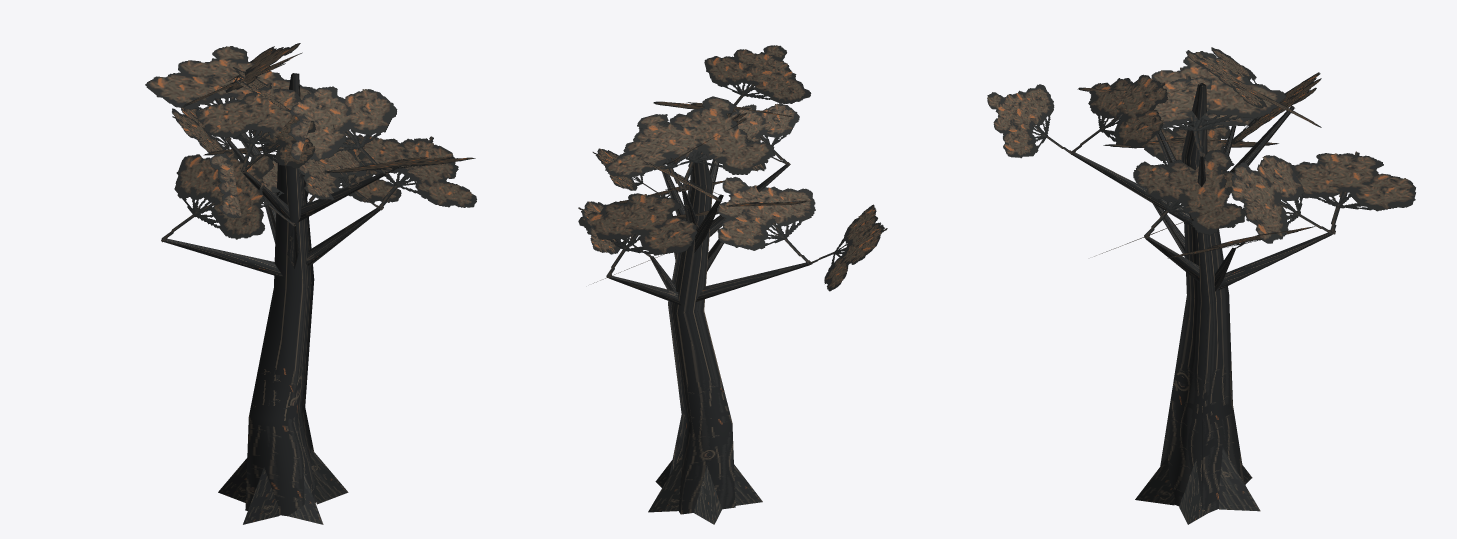
File: volcanic-emberwood-mobile.glb
3 renders of one model, left to right at view 1: azimuth 30°, elevation 25°; view 2: azimuth 150°, elevation 25°; view 3: azimuth 270°, elevation 25°, orthographic. The views are drawn at different scales.
Visible parts, largest first — view 1: Volcanic emberwood mobile v3 runtime; view 2: Volcanic emberwood mobile v3 runtime; view 3: Volcanic emberwood mobile v3 runtime.
Boxes of the visible parts, x1,y1,x2,y2 form: Volcanic emberwood mobile v3 runtime: (145, 43, 476, 524); Volcanic emberwood mobile v3 runtime: (578, 45, 887, 524); Volcanic emberwood mobile v3 runtime: (987, 47, 1415, 524).
Bounding box in the file's own units: 6.91 × 7.32 × 7.14.
Materials: 1 (1 with a texture image).
